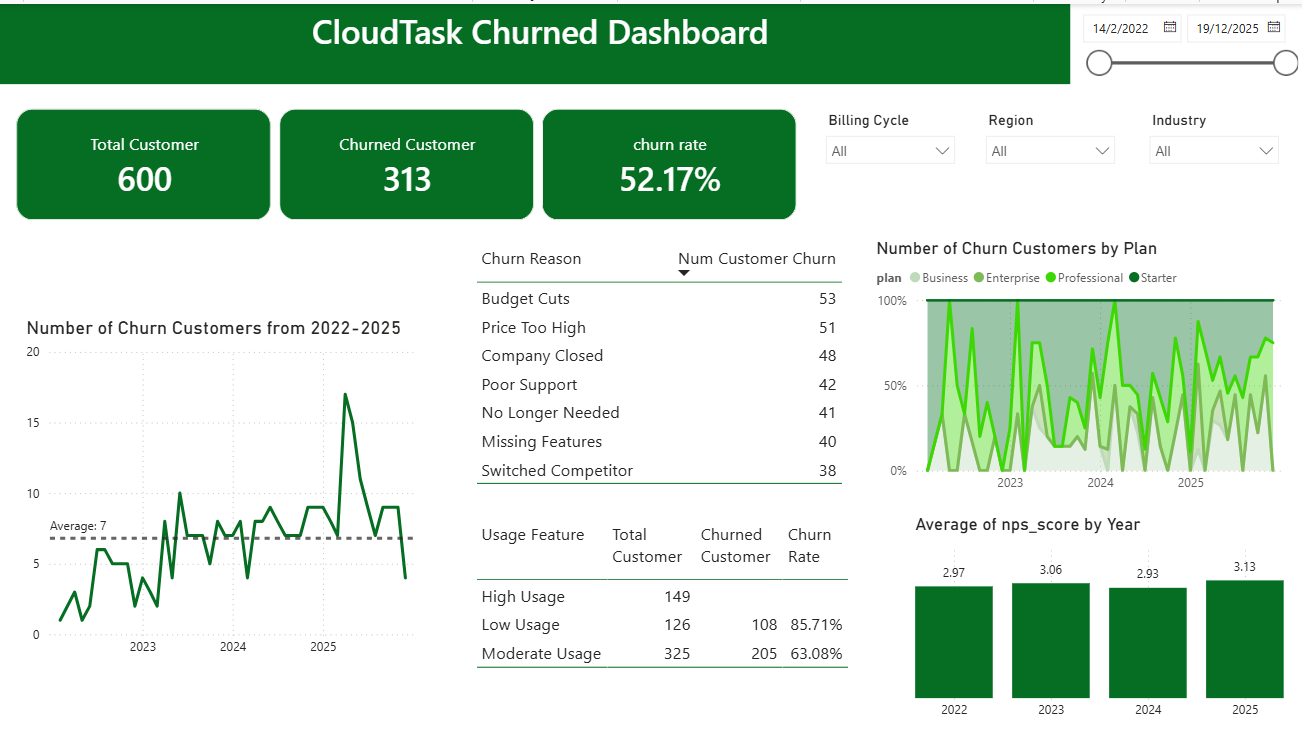

The dashboard page shown, as its layout file describes it:
{"tool":"powerbi","page":{"name":"Churn Profile","canvas":[1280,720],"ordinal":1},"visuals":[{"type":"lineChart","title":"The Starter plan is our biggest churn risk, consistently outpacing every other tier.","fields":{"Category":["subscriptions.churn_date.Variation.Date Hierarchy.Year","subscriptions.churn_date.Variation.Date Hierarchy.Quarter","subscriptions.churn_date.Variation.Date Hierarchy.Month","subscriptions.churn_date.Variation.Date Hierarchy.Day"],"Y":["subscriptions.Churned Customer"],"Series":["subscriptions.plan"]},"box":[18.5,124.6,498.5,564.2],"z":0},{"type":"hundredPercentStackedAreaChart","title":"Monthly customers show greater churn risk than annual customers","fields":{"Category":["subscriptions.churn_date.Variation.Date Hierarchy.Year","subscriptions.churn_date.Variation.Date Hierarchy.Quarter","subscriptions.churn_date.Variation.Date Hierarchy.Month","subscriptions.churn_date.Variation.Date Hierarchy.Day"],"Y":["subscriptions.Churned Customer"],"Series":["subscriptions.billing_cycle"]},"box":[587.3,448.8,623.1,240],"z":1000},{"type":"tableEx","title":"Churn exceeds 44% across every industry","fields":{"Values":["subscriptions.industry","subscriptions.churn rate"]},"box":[923.1,124.6,287.3,313.8],"z":2000},{"type":"tableEx","title":"All regions experience concerning churn rates above 48%","fields":{"Values":["subscriptions.region","subscriptions.churn rate"]},"box":[587.3,124.6,283.8,264.2],"z":3000},{"type":"textbox","box":[0,0,1279.6,88],"z":4000}]}

Visuals, with their boxes in screenshot pixels (x1, y1, x2, y2), scaled from the page's 1280x720 canvas onto the 1302x737 screenshot:
"The Starter plan is our biggest churn risk, consistently outpacing every other tier." lineChart: x1=19, y1=128, x2=526, y2=705
"Monthly customers show greater churn risk than annual customers" hundredPercentStackedAreaChart: x1=597, y1=459, x2=1231, y2=705
"Churn exceeds 44% across every industry" tableEx: x1=939, y1=128, x2=1231, y2=449
"All regions experience concerning churn rates above 48%" tableEx: x1=597, y1=128, x2=886, y2=398
textbox: x1=0, y1=0, x2=1301, y2=90
